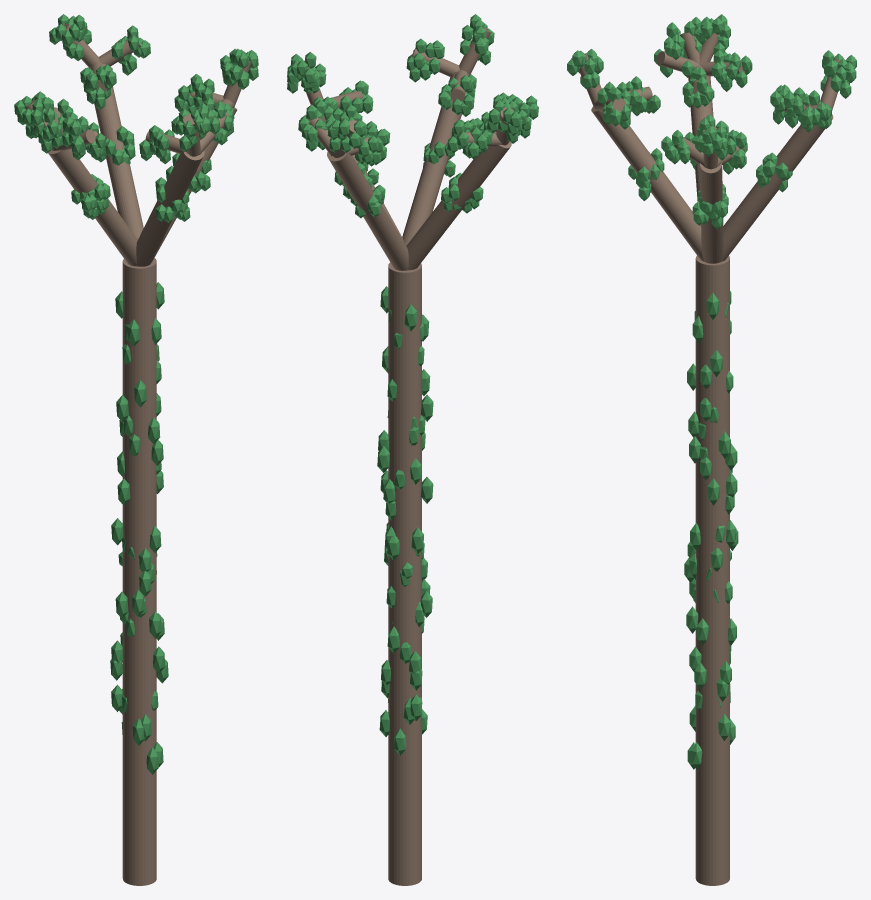
The picture shows the model from 3 angles, left to right: view 1: azimuth 30°, elevation 25°; view 2: azimuth 150°, elevation 25°; view 3: azimuth 270°, elevation 25°; orthographic projection.
Visible parts, largest first — view 1: CypressBranch_D0, CypressBranch_D1.001, CypressBranch_D1.002, CypressBranch_D1.003; view 2: CypressBranch_D0, CypressBranch_D1.002, CypressBranch_D1.001, CypressBranch_D1.003; view 3: CypressBranch_D0, CypressBranch_D1.003, CypressBranch_D1.001, CypressBranch_D1, CypressBranch_D1.002.
Part boxes in pixels (bbox=[...]): CypressBranch_D0: bbox=[122, 258, 156, 885]; CypressBranch_D1.001: bbox=[89, 64, 143, 239]; CypressBranch_D1.002: bbox=[48, 149, 137, 266]; CypressBranch_D1.003: bbox=[136, 150, 204, 266]; CypressBranch_D0: bbox=[388, 262, 421, 885]; CypressBranch_D1.002: bbox=[406, 141, 511, 270]; CypressBranch_D1.001: bbox=[327, 151, 408, 270]; CypressBranch_D1.003: bbox=[402, 72, 461, 245]; CypressBranch_D0: bbox=[695, 255, 729, 885]; CypressBranch_D1.003: bbox=[591, 106, 703, 261]; CypressBranch_D1.001: bbox=[721, 114, 833, 261]; CypressBranch_D1: bbox=[700, 163, 723, 263]; CypressBranch_D1.002: bbox=[688, 75, 713, 200].
Bounding box in the file's own units: 4.01 × 13.33 × 4.23.
